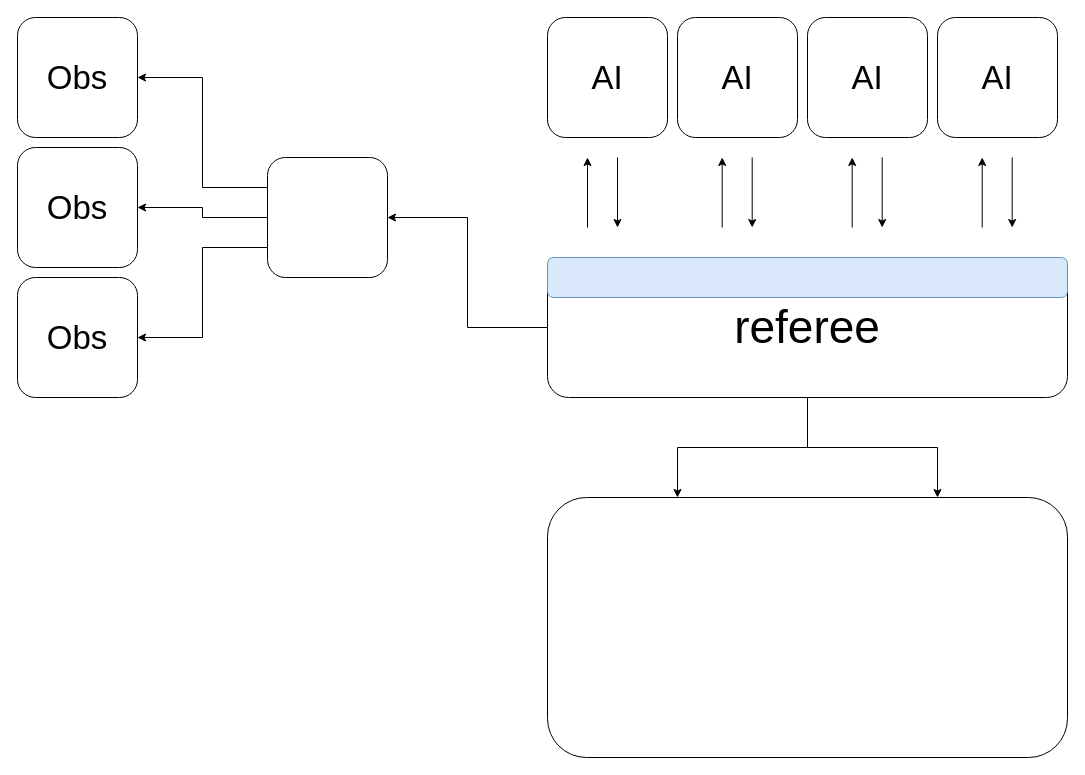
Some shapes in this 1085 by 775 pixel diagram are drawn without their labels. The shapes that lost their labels are listed below. From the top down, each one's centre as x and y in pixels, then its label:
At (327,217): "GUI".
At (807,627): "game".
